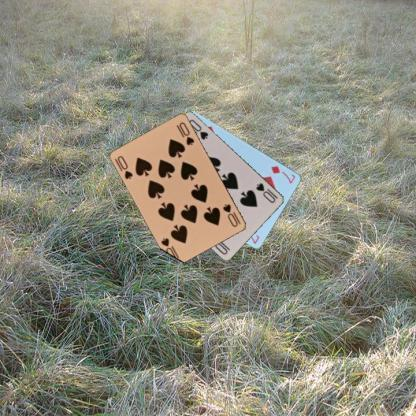10s: (254, 180, 280, 204), (220, 202, 242, 229), (115, 153, 134, 181)
7d: (268, 163, 298, 185)
